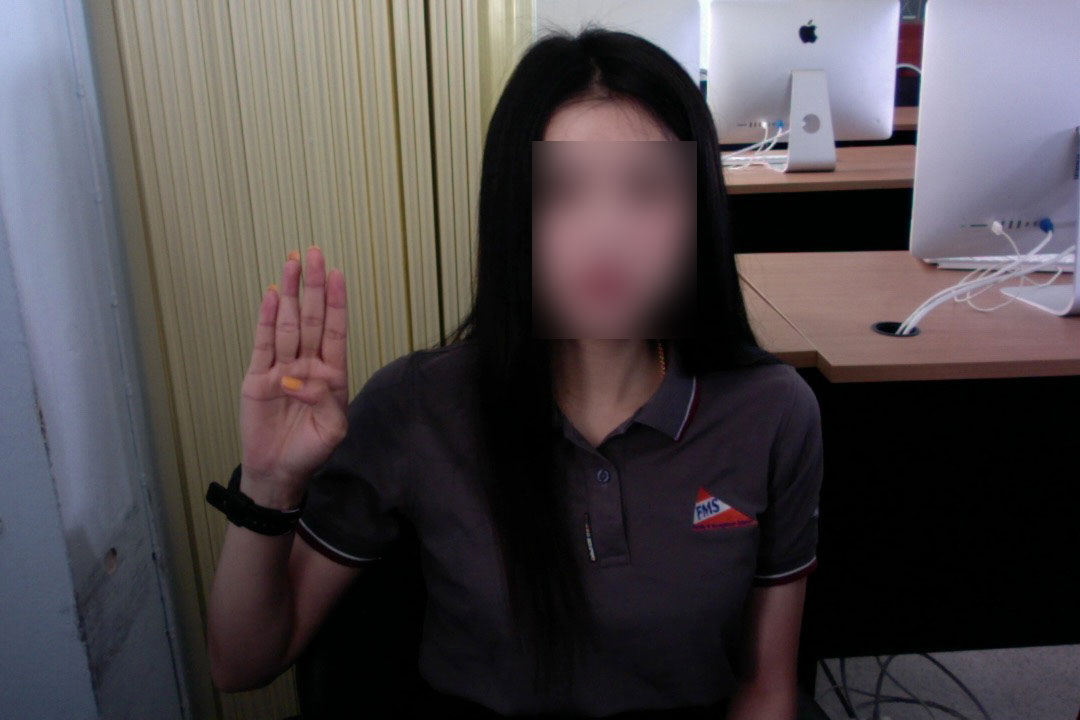bor: (231, 240, 355, 487)
